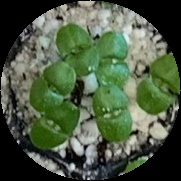Basil: (139, 50, 179, 118), (25, 63, 74, 111), (90, 32, 129, 87), (98, 83, 134, 142), (30, 104, 78, 148), (57, 25, 96, 73)
